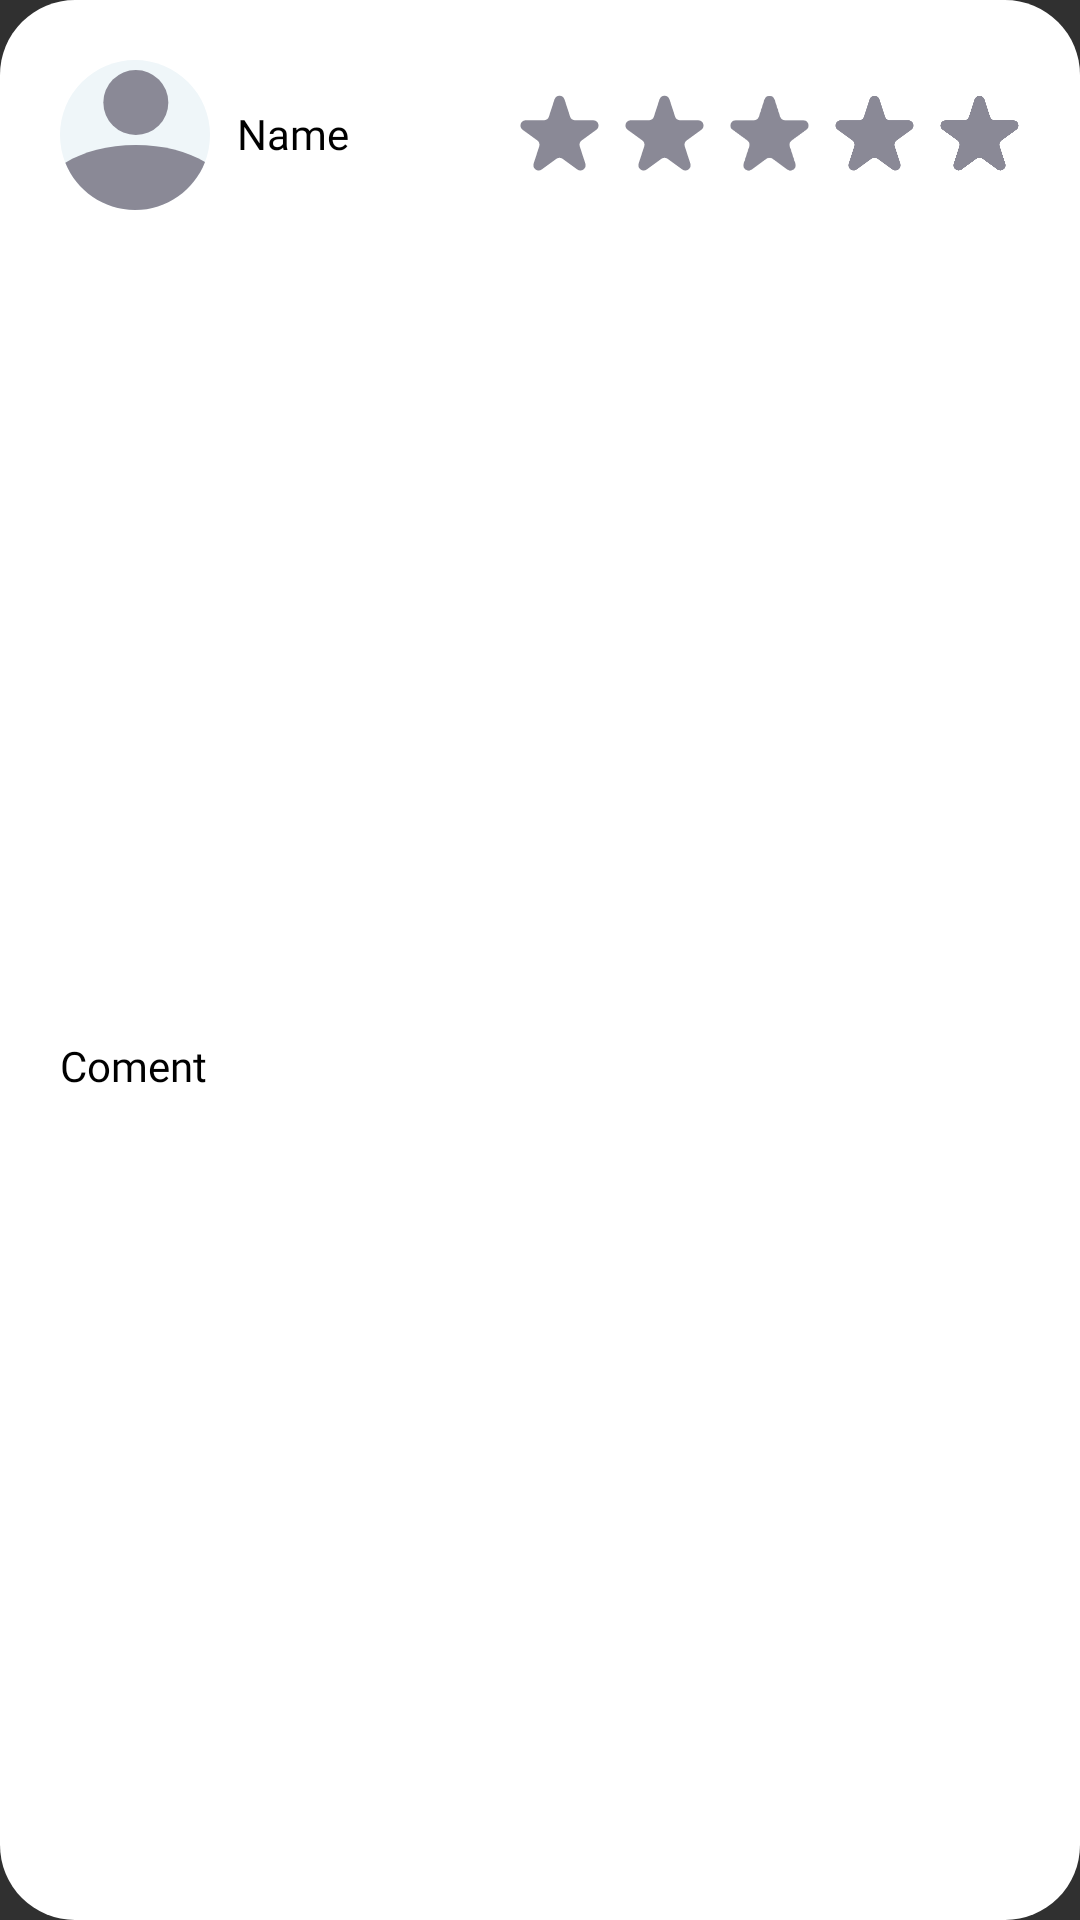

Icons on this 1080w x 1920h Android screen, each with the point to tap as [x,y]:
none stars: [559,133], [664,133], [769,133], [874,133], [979,133]
